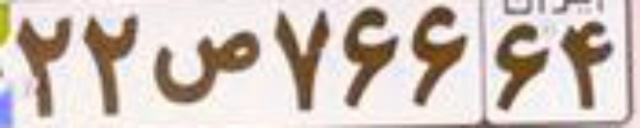2: (14, 14, 73, 117), (84, 12, 139, 116)
4: (556, 20, 619, 109)
6: (407, 4, 467, 106), (345, 6, 398, 106), (492, 22, 550, 110)
7: (274, 7, 335, 111)
saat: (149, 27, 265, 104)
